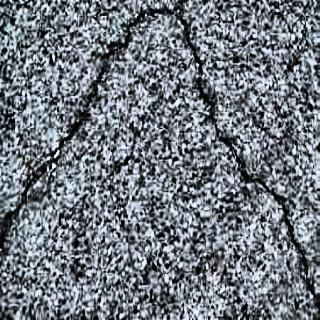crack: (175, 8, 320, 305), (0, 12, 139, 243), (134, 0, 182, 28)
